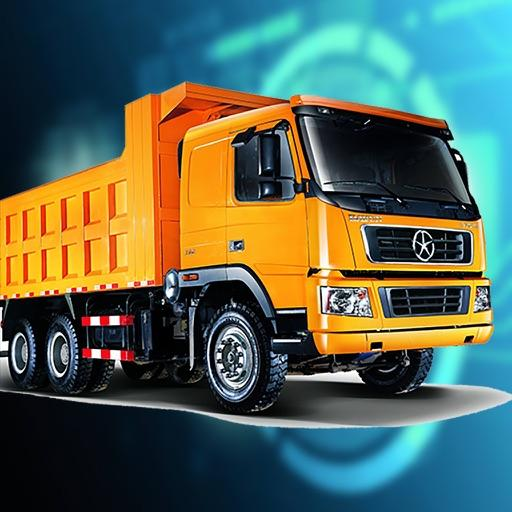truck: (1, 71, 505, 434)
